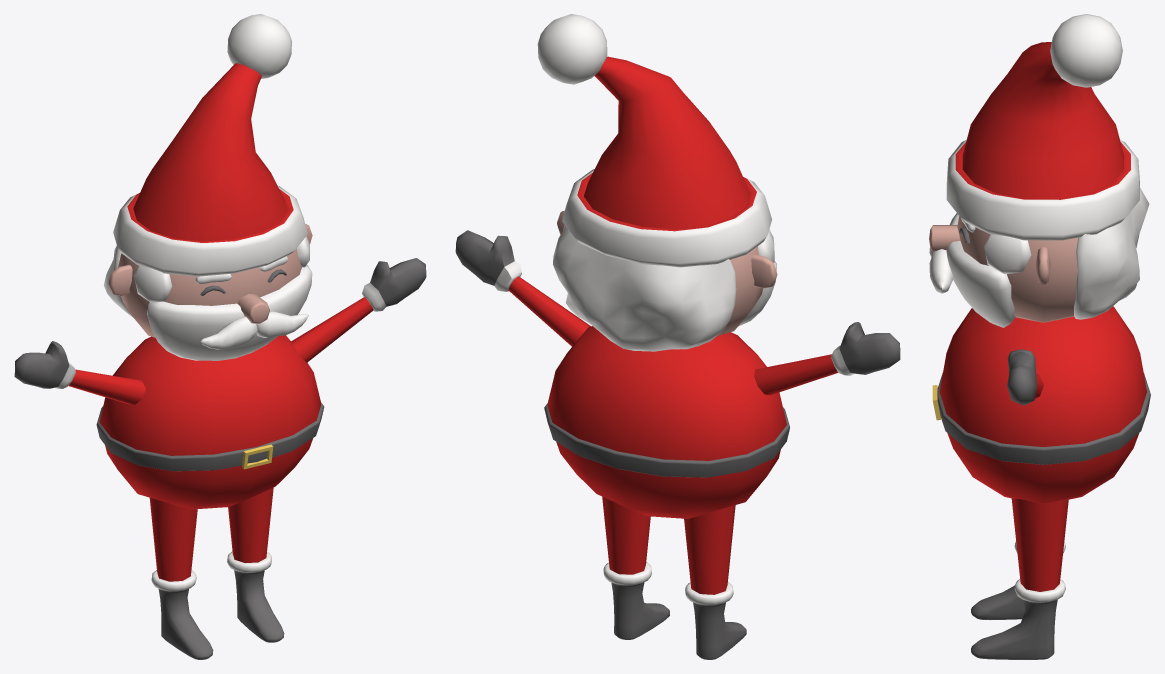
File: Christmas_Santa_231109.glb
3 renders of one model, left to right at view 1: azimuth 30°, elevation 25°; view 2: azimuth 150°, elevation 25°; view 3: azimuth 270°, elevation 25°, orthographic. The views are drawn at different scales.
Visible parts, largest first — view 1: Santa; view 2: Santa; view 3: Santa.
Boxes of the visible parts, x1,y1,x2,y2 form: Santa: (14,14,426,659); Santa: (455,14,900,659); Santa: (929,14,1150,659).
Size of the model in its own units: 1.34 by 1.81 by 0.5537.
1 material, 1 textured.
